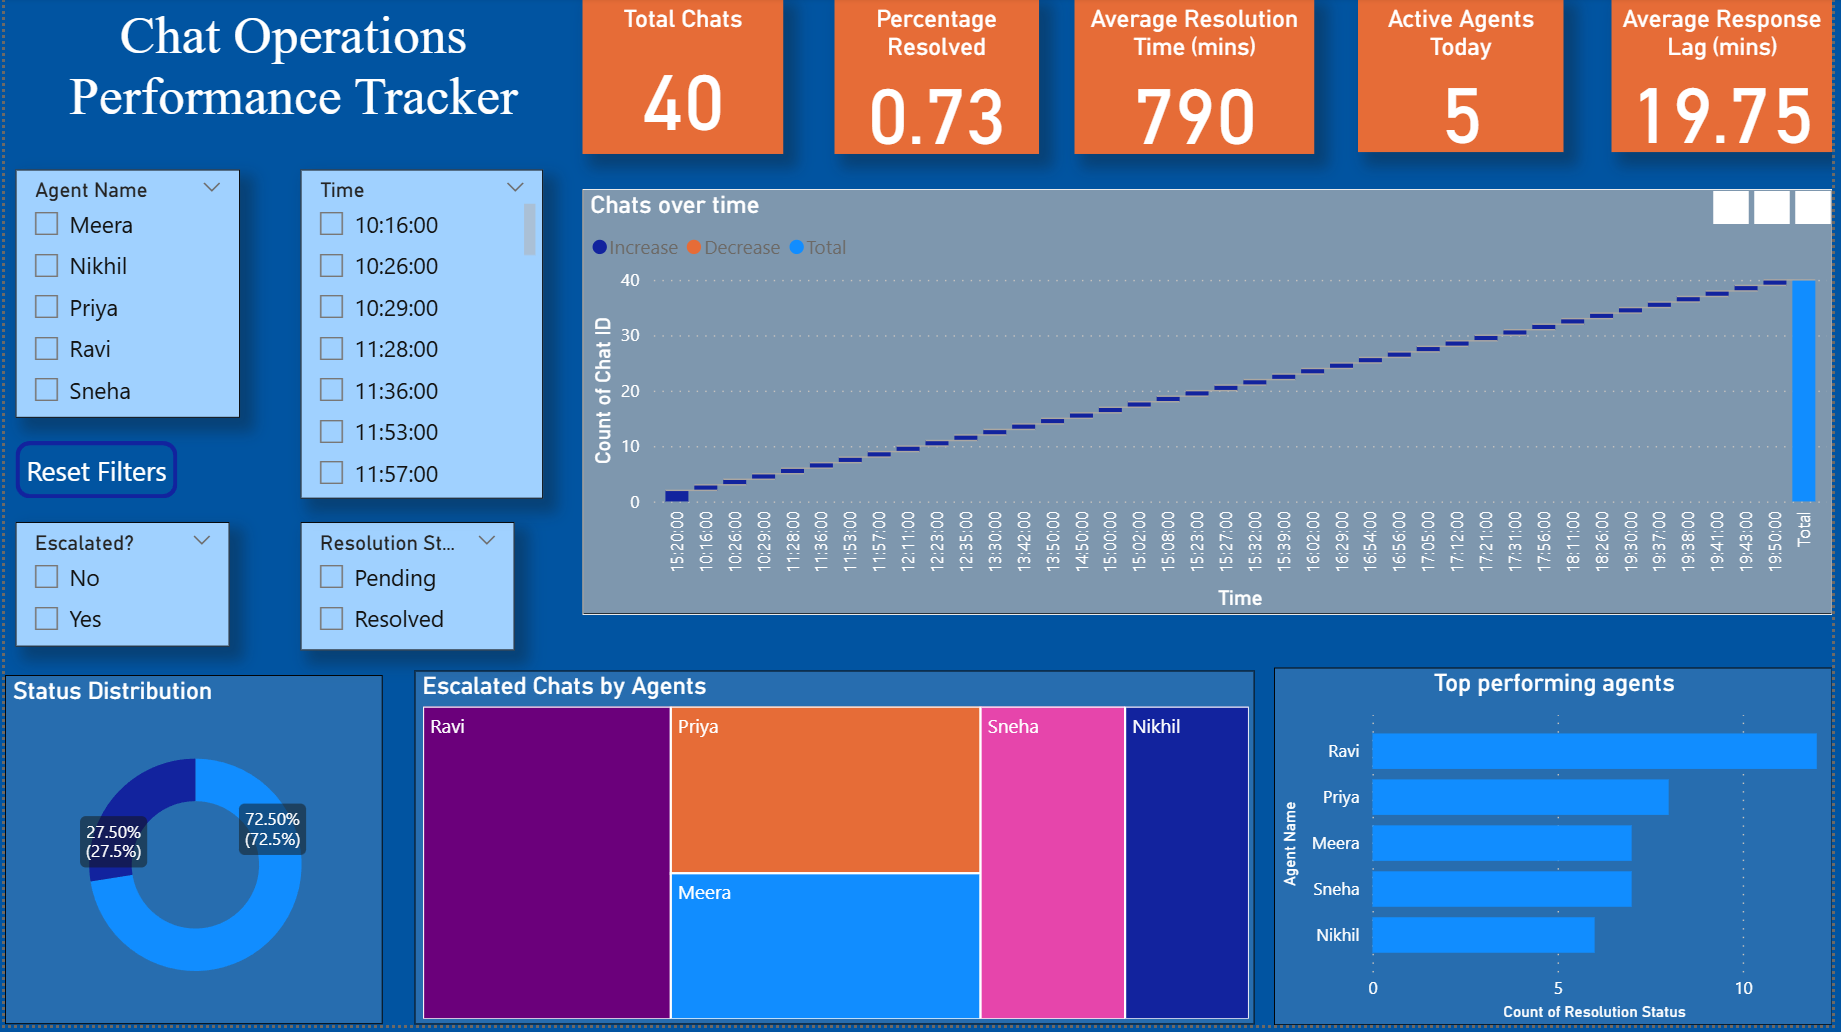

The dashboard page shown, as its layout file describes it:
{"tool":"powerbi","page":{"name":"Page 1","canvas":[1280,720],"ordinal":0},"visuals":[{"type":"textbox","box":[0,0,404.3,108.8],"z":0},{"type":"card","title":"Total Chats","fields":{"Values":["Sheet1.Chat ID"]},"box":[404.3,0,140.7,110],"z":1000},{"type":"card","title":"Active Agents Today","fields":{"Values":["Sheet1.Agent Name"]},"box":[948.2,0,144.2,108.8],"z":2000},{"type":"donutChart","title":"Status Distribution","fields":{"Category":["Sheet1.Resolution Status"],"Y":["Sheet1.Escalated?"]},"box":[0,475.3,264.8,244.7],"z":3000},{"type":"card","title":"Percentage Resolved","fields":{"Values":["Sheet1.% Resolved"]},"box":[581.7,0,143.1,110],"z":4000},{"type":"card","title":"Average Resolution Time (mins)","fields":{"Values":["Sheet1.Response Lag (secs)"]},"box":[749.6,0,167.9,110],"z":5000},{"type":"clusteredBarChart","title":"Top performing agents","fields":{"Category":["Sheet1.Agent Name"],"Y":["Sheet1.Resolution Status"]},"box":[889.1,469.4,391.3,250.6],"z":6000},{"type":"waterfallChart","title":"Chats over time","fields":{"Y":["Sheet1.Chat ID"],"Category":["Sheet1.Time"]},"box":[404.3,134.8,876.1,297.9],"z":7000},{"type":"treemap","title":"Escalated Chats by Agents","fields":{"Values":["Sheet1.Chat ID"],"Details":["Sheet1.Agent Name"]},"box":[287.3,471.7,588.8,248.3],"z":8000},{"type":"card","title":"Average Response Lag (mins)","fields":{"Values":["Sheet1.Response Lag (secs)"]},"box":[1125.5,0,154.9,108.8],"z":9000},{"type":"slicer","fields":{"Values":["Sheet1.Agent Name"]},"box":[7.1,120.6,157.2,173.8],"z":10000},{"type":"slicer","fields":{"Values":["Sheet1.Escalated?"]},"box":[7.1,367.7,150.1,87.5],"z":11000},{"type":"slicer","fields":{"Values":["Sheet1.Resolution Status"]},"box":[206.9,367.7,150.1,89.9],"z":12000},{"type":"slicer","fields":{"Values":["Sheet1.Time"]},"box":[206.9,120.6,170.2,230.5],"z":12001},{"type":"actionButton","box":[7.1,310.9,113.5,40.2],"z":12002}]}

Visuals, with their boxes in screenshot pixels (x1, y1, x2, y2), scaled from the page's 1280x720 canvas onto the 1841x1032 screenshot:
textbox: [0,0,581,156]
"Total Chats" card: [581,0,784,158]
"Active Agents Today" card: [1364,0,1571,156]
"Status Distribution" donutChart: [0,681,381,1031]
"Percentage Resolved" card: [837,0,1042,158]
"Average Resolution Time (mins)" card: [1078,0,1320,158]
"Top performing agents" clusteredBarChart: [1279,673,1840,1031]
"Chats over time" waterfallChart: [581,193,1840,620]
"Escalated Chats by Agents" treemap: [413,676,1260,1031]
"Average Response Lag (mins)" card: [1619,0,1840,156]
slicer - Sheet1.Agent Name: [10,173,236,422]
slicer - Sheet1.Escalated?: [10,527,226,652]
slicer - Sheet1.Resolution Status: [298,527,513,656]
slicer - Sheet1.Time: [298,173,542,503]
actionButton: [10,446,173,503]
